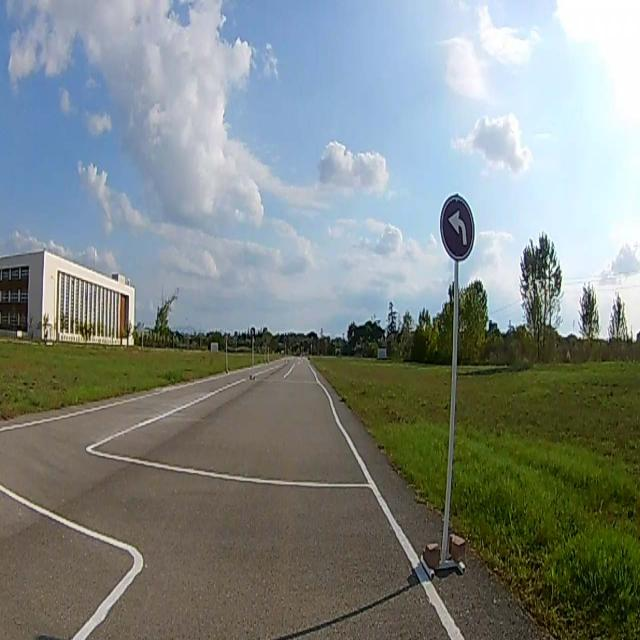sol: (440, 193, 475, 260)
